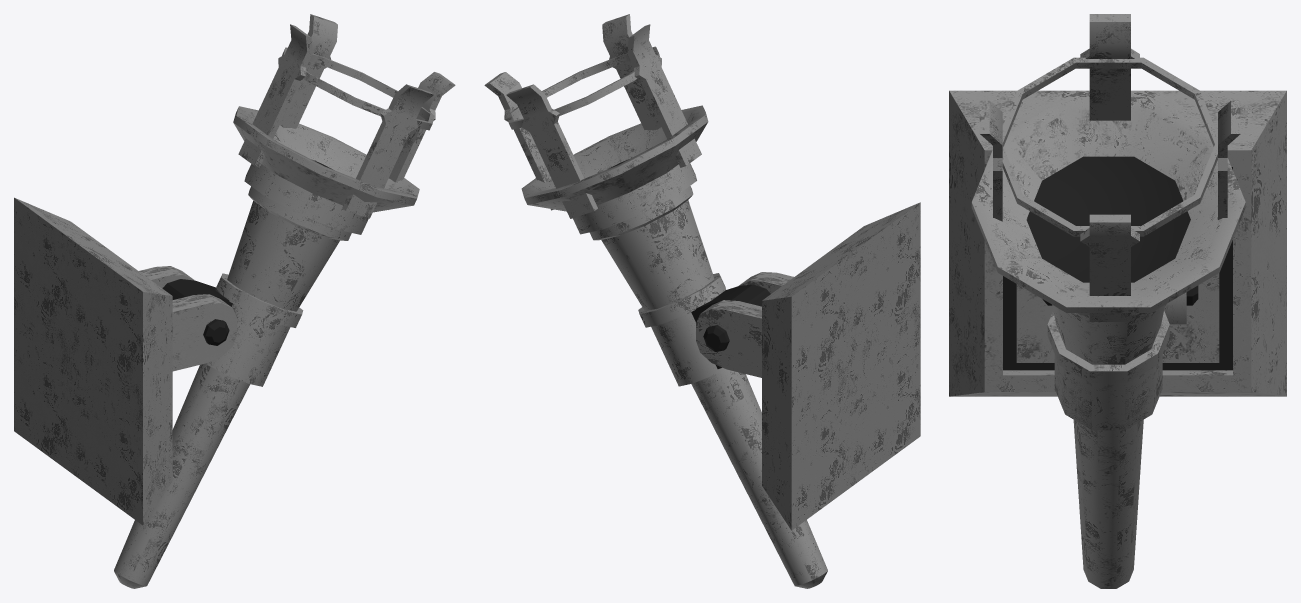
File: SM_Torch_05.fbx
The picture shows the model from 3 angles, left to right: view 1: azimuth 30°, elevation 25°; view 2: azimuth 150°, elevation 25°; view 3: azimuth 270°, elevation 25°; orthographic projection. The views are drawn at different scales.
Visible parts, largest first — view 1: Torch_Low, Cube.005, Cube.003, Cube.007, Cube.001; view 2: Torch_Low, Cube.005, Cube.001, Cube.007, Cube.003; view 3: Torch_Low, Cube.005, Cube.001.
Boxes of the visible parts, x1,y1,x2,y2 form: Torch_Low: [114, 14, 455, 588]; Cube.005: [14, 197, 172, 525]; Cube.003: [172, 294, 236, 371]; Cube.007: [162, 279, 232, 306]; Cube.001: [139, 266, 194, 288]; Torch_Low: [484, 14, 827, 588]; Cube.005: [762, 202, 920, 530]; Cube.001: [696, 300, 761, 377]; Cube.007: [691, 284, 770, 368]; Cube.003: [739, 272, 793, 293]; Torch_Low: [971, 14, 1245, 588]; Cube.005: [949, 90, 1286, 396]; Cube.001: [1164, 292, 1186, 327].
Size of the model in its own units: 108 by 145 by 65.59.
